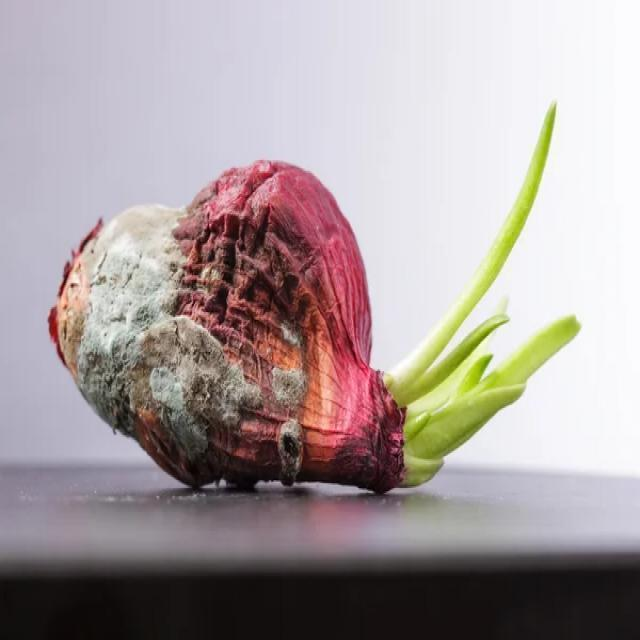Onion: (49, 159, 405, 495), (382, 102, 581, 488)
